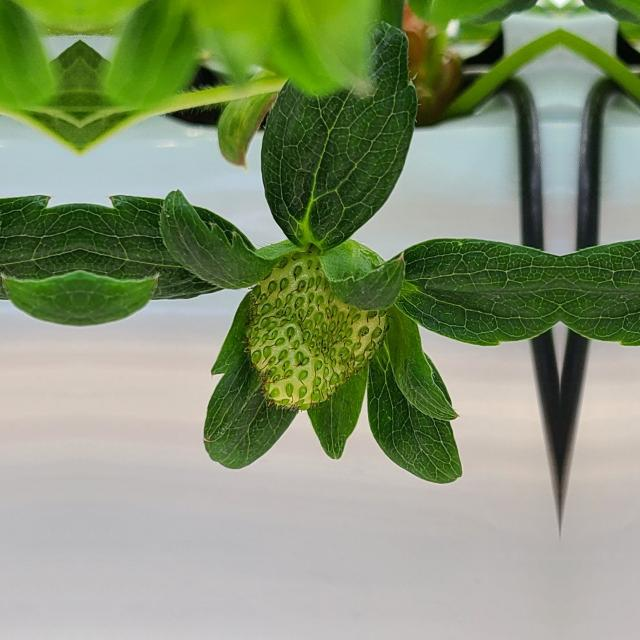Health_25: (247, 245, 385, 410)
